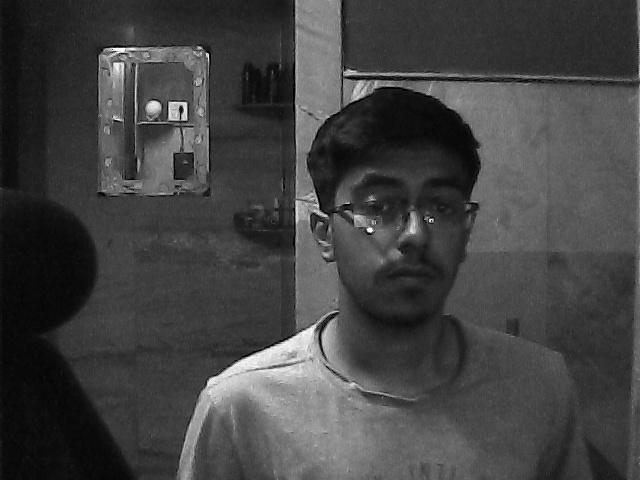nomask: (328, 144, 477, 335)
